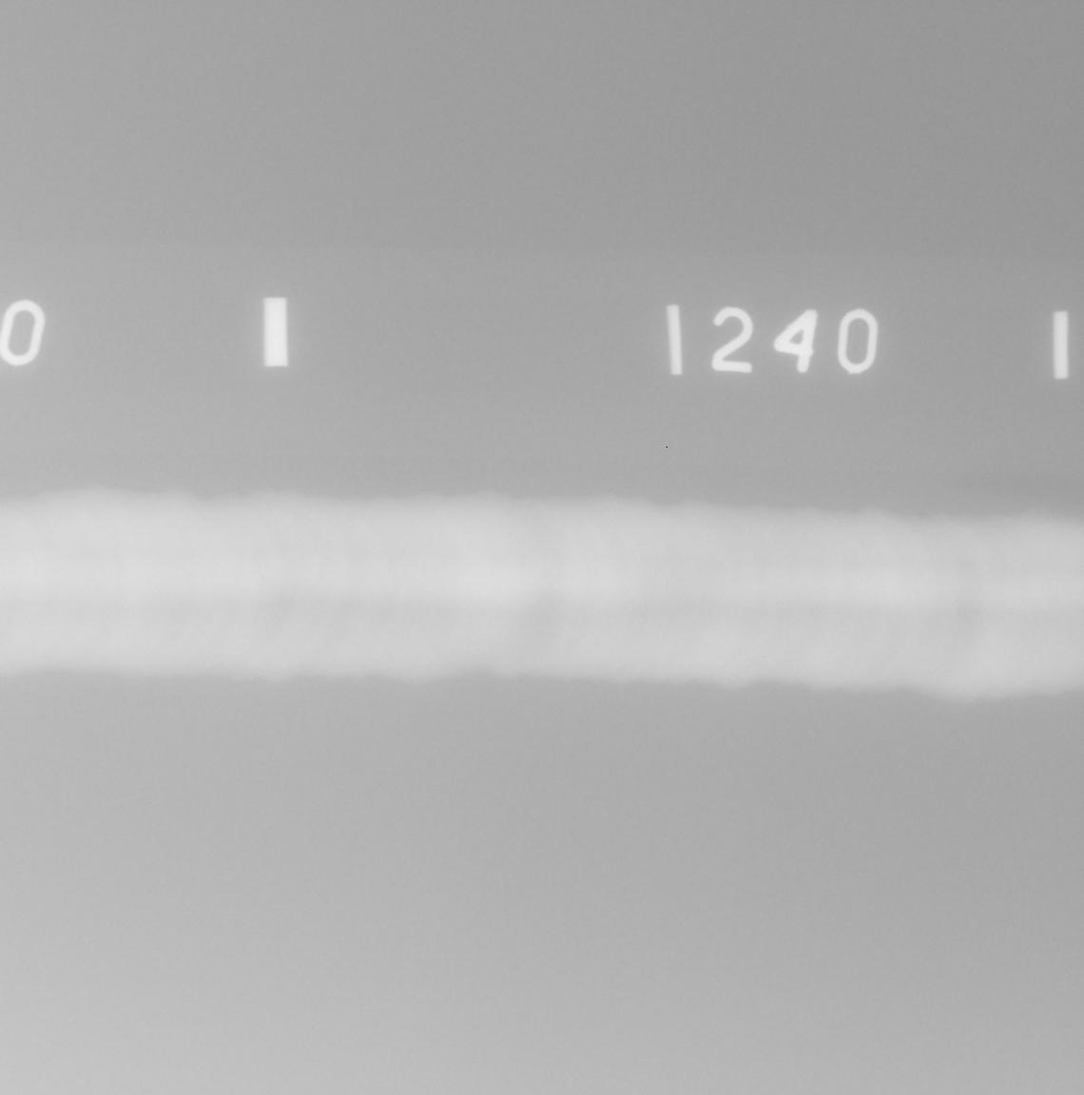Pore/Porosity: (341, 604, 350, 608)
